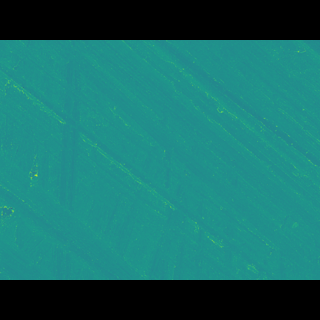Loch: (0, 156, 153, 251), (58, 84, 87, 201)
